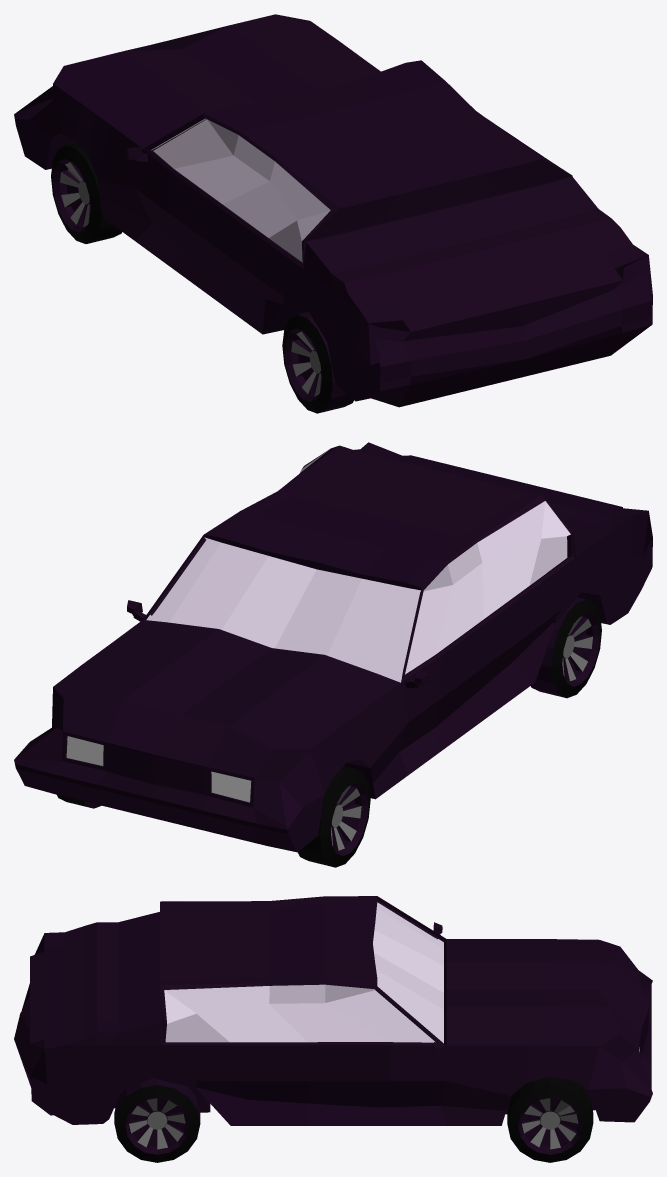
Rendered from BroomBroom2.fbx.
3 views of the same model, one above another, from view 1: azimuth 30°, elevation 25°; view 2: azimuth 150°, elevation 25°; view 3: azimuth 270°, elevation 25° (orthographic). The views are drawn at different scales.
Parts seen in each view (by area): view 1: Cube; view 2: Cube; view 3: Cube.
Boxes of the visible parts, x1,y1,x2,y2 form: Cube: [14, 14, 652, 413]; Cube: [14, 442, 652, 867]; Cube: [14, 896, 652, 1162].
Size of what is drawn, in the model's own units: 181 by 114 by 392.
